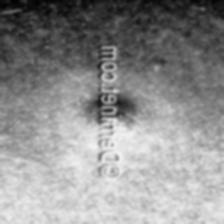Potentially Malignant Skin Tumors: (119, 92, 144, 134), (82, 94, 100, 128)
